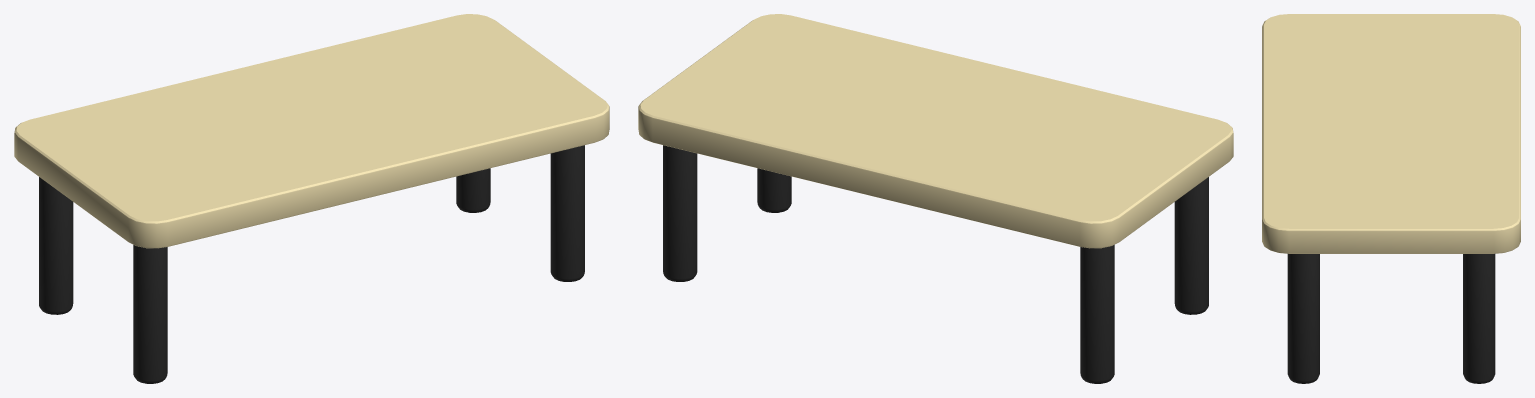
Rendered from canzhuo_01.FBX.
The picture shows the model from 3 angles, left to right: view 1: azimuth 30°, elevation 25°; view 2: azimuth 150°, elevation 25°; view 3: azimuth 270°, elevation 25°; orthographic projection. The views are drawn at different scales.
Visible parts, largest first — view 1: canzhuo_01; view 2: canzhuo_01; view 3: canzhuo_01.
Boxes of the visible parts, box(x1,y1,x2,y2) form: canzhuo_01: box(14, 14, 609, 383); canzhuo_01: box(638, 14, 1233, 383); canzhuo_01: box(1262, 14, 1520, 383).
Bounding box in the file's own units: 97.19 × 33.92 × 49.11.
